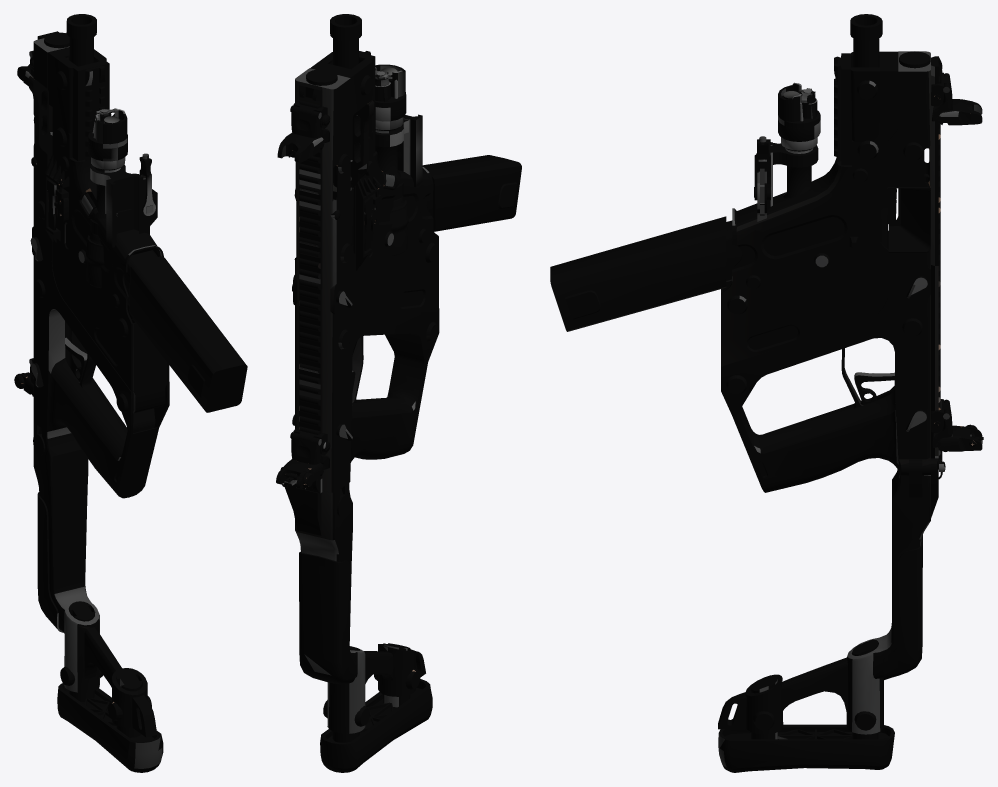
File: KrissVector__Light_Weapon.fbx
3 views of the same model, side by side, from view 1: azimuth 30°, elevation 25°; view 2: azimuth 150°, elevation 25°; view 3: azimuth 270°, elevation 25° (orthographic). The views are drawn at different scales.
Visible parts, largest first — view 1: asset_KrissVector.001; view 2: asset_KrissVector.001; view 3: asset_KrissVector.001.
Boxes of the visible parts, box(x1,y1,x2,y2) form: asset_KrissVector.001: box(14, 14, 247, 772); asset_KrissVector.001: box(276, 14, 521, 772); asset_KrissVector.001: box(550, 14, 983, 772).
Bounding box in the file's own units: 0.0304 × 0.312 × 0.1639.
